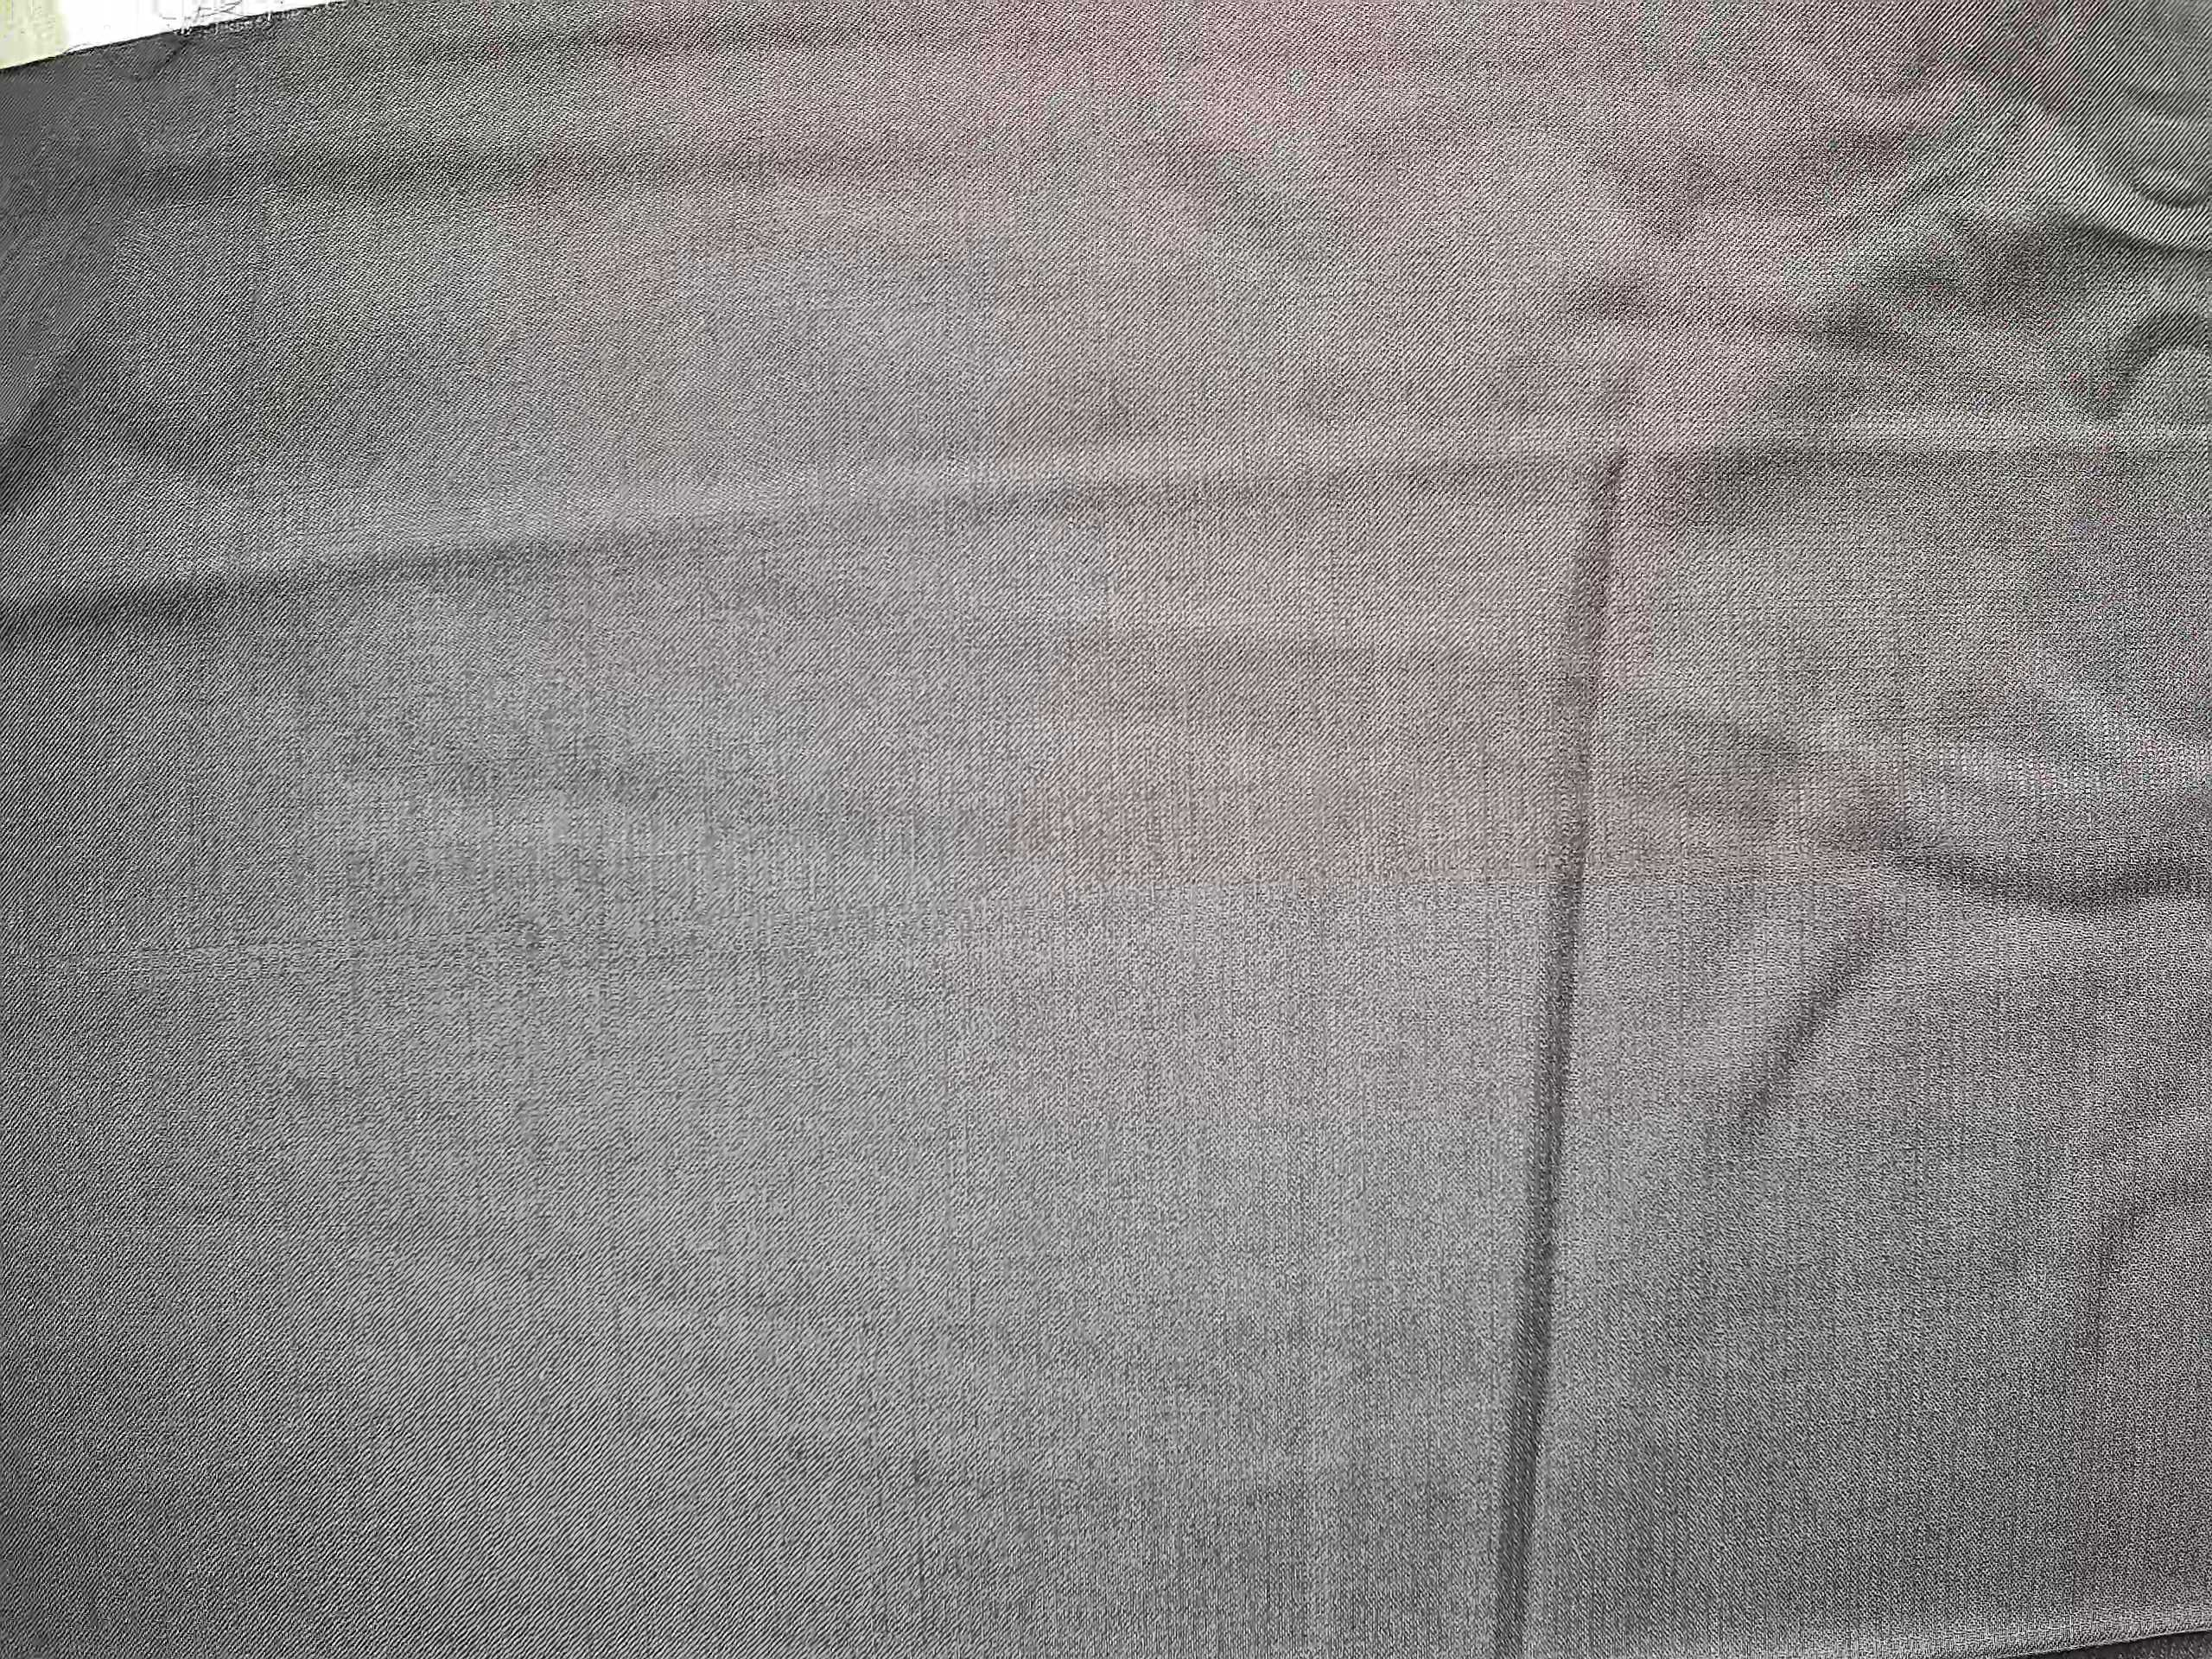jumps: (864, 826, 2200, 1432), (17, 936, 681, 995)
